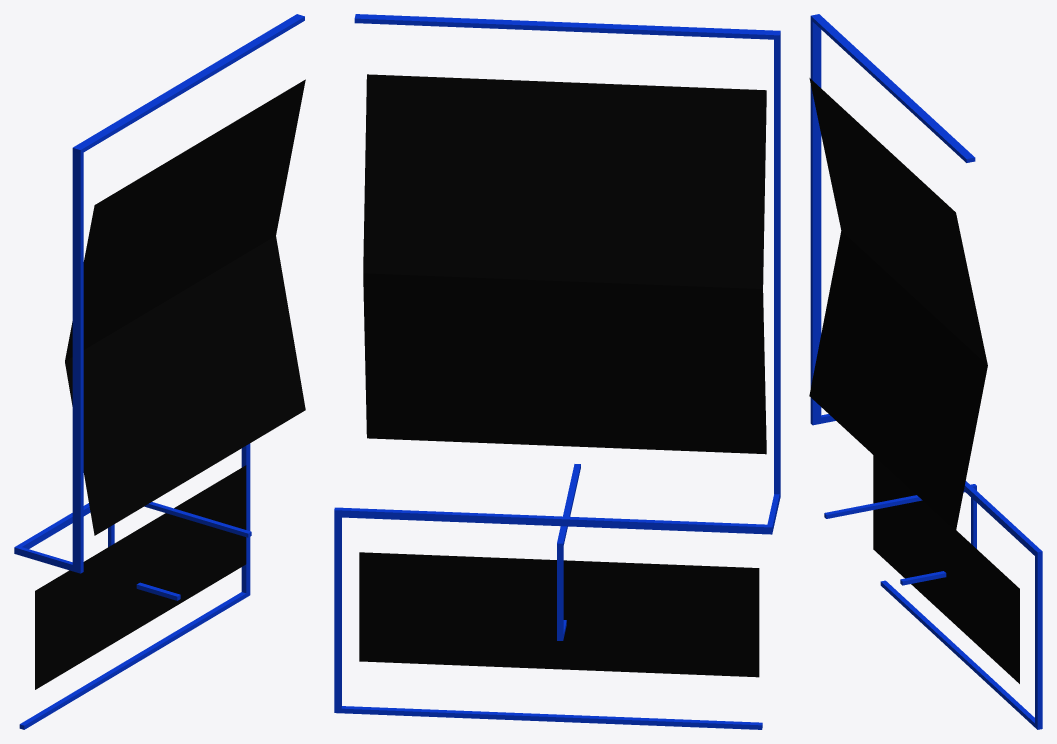
File: rig_animation_bbu2.glb
The picture shows the model from 3 angles, left to right: view 1: azimuth 30°, elevation 25°; view 2: azimuth 150°, elevation 25°; view 3: azimuth 270°, elevation 25°; orthographic projection. The views are drawn at different scales.
Visible parts, largest first — view 1: face, eye, avatar_animated_finish; view 2: face, eye, avatar_animated_finish; view 3: face, eye, avatar_animated_finish.
Part boxes in pixels (x1=…): face: x1=65, y1=79, x2=305, y2=535; eye: x1=35, y1=465, x2=246, y2=689; avatar_animated_finish: x1=14, y1=14, x2=304, y2=729; face: x1=363, y1=74, x2=766, y2=454; eye: x1=359, y1=552, x2=759, y2=677; avatar_animated_finish: x1=334, y1=14, x2=780, y2=729; face: x1=809, y1=78, x2=987, y2=530; eye: x1=873, y1=455, x2=1019, y2=683; avatar_animated_finish: x1=810, y1=14, x2=1042, y2=729.
Size of the model in its own units: 1.06 by 1.82 by 0.6636.
